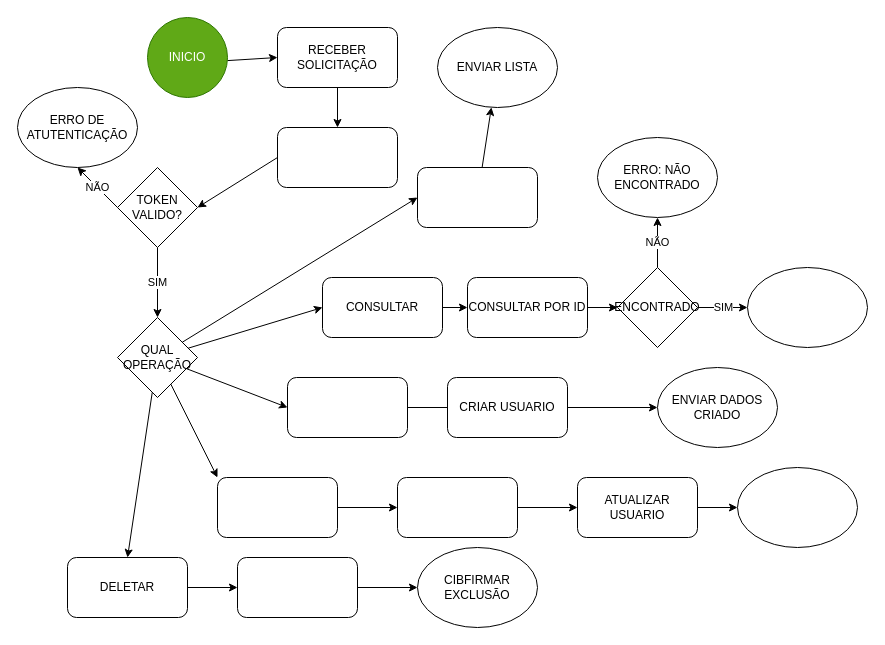
Image size: 885x645. Some labels were removed from this diagram. The shapes that lost their labels are listed below. From the top down, each one's box as (x1, y1, x2, y2) in pixels, then its label:
(276, 126, 398, 188): VALIDAR TOKEN
(416, 166, 538, 228): LISTAR
(746, 266, 868, 348): ENVIAR DADOS
(286, 376, 408, 438): CRIAR
(216, 476, 338, 538): ATUALIZAR
(396, 476, 518, 538): VALIDAR DADOS
(736, 466, 858, 548): ENVIAR DADOS ATUALIZADOS
(236, 556, 358, 618): REMOVER USUARIO
